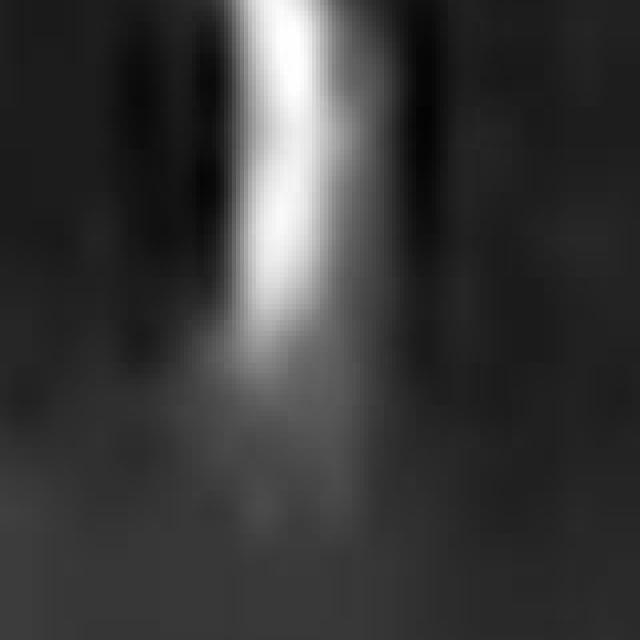person: (177, 1, 413, 518)
